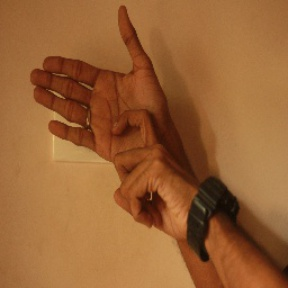R: (35, 4, 182, 221)
